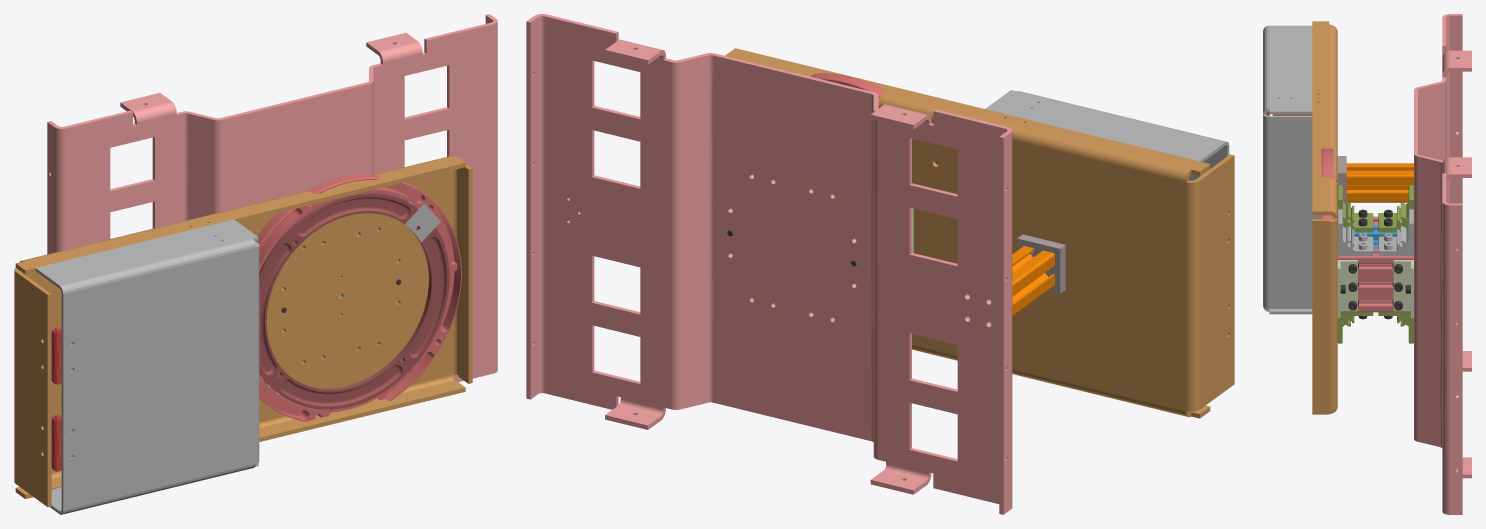
File: tables.obj
3 views of the same model, side by side, from view 1: azimuth 30°, elevation 25°; view 2: azimuth 150°, elevation 25°; view 3: azimuth 270°, elevation 25° (orthographic). The views are drawn at different scales.
Parts seen in each view (by area): view 1: メッシュ フィーチャ1_1, メッシュ フィーチャ1_84, メッシュ フィーチャ1_143, メッシュ フィーチャ1_92, メッシュ フィーチャ1_2, メッシュ フィーチャ1_142; view 2: メッシュ フィーチャ1_1, メッシュ フィーチャ1_143, メッシュ フィーチャ1_84, メッシュ フィーチャ1_4, メッシュ フィーチャ1_5; view 3: メッシュ フィーチャ1_1, メッシュ フィーチャ1_84, メッシュ フィーチャ1_143, メッシュ フィーチャ1_4, メッシュ フィーチャ1_6, メッシュ フィーチャ1_46, メッシュ フィーチャ1_61, メッシュ フィーチャ1_62, メッシュ フィーチャ1_74, メッシュ フィーチャ1_18, メッシュ フィーチャ1_7, メッシュ フィーチャ1_2 (+3 smaller).
Part boxes in pixels (box(x1,y1,x2,y2)): メッシュ フィーチャ1_1: box(47, 14, 497, 381); メッシュ フィーチャ1_84: box(35, 219, 259, 514); メッシュ フィーチャ1_143: box(14, 155, 472, 506); メッシュ フィーチャ1_92: box(259, 192, 449, 409); メッシュ フィーチャ1_2: box(255, 173, 461, 421); メッシュ フィーチャ1_142: box(405, 203, 440, 242); メッシュ フィーチャ1_1: box(526, 14, 1012, 514); メッシュ フィーチャ1_143: box(725, 48, 1234, 418); メッシュ フィーチャ1_84: box(985, 90, 1229, 180); メッシュ フィーチャ1_4: box(1012, 246, 1054, 316); メッシュ フィーチャ1_5: box(1017, 234, 1065, 293); メッシュ フィーチャ1_1: box(1414, 14, 1471, 514); メッシュ フィーチャ1_84: box(1263, 25, 1319, 314); メッシュ フィーチャ1_143: box(1272, 21, 1337, 414); メッシュ フィーチャ1_4: box(1346, 163, 1413, 202); メッシュ フィーチャ1_6: box(1337, 249, 1413, 312); メッシュ フィーチャ1_46: box(1337, 260, 1357, 318); メッシュ フィーチャ1_61: box(1337, 209, 1373, 255); メッシュ フィーチャ1_62: box(1393, 260, 1413, 318); メッシュ フィーチャ1_74: box(1378, 209, 1413, 255); メッシュ フィーチャ1_18: box(1337, 185, 1373, 232); メッシュ フィーチャ1_7: box(1378, 185, 1413, 232); メッシュ フィーチャ1_2: box(1321, 148, 1333, 220).
Bounding box in the file's own units: 553 × 336 × 205.
